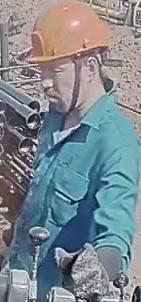gloves: (53, 242, 117, 300)
helmet: (25, 0, 114, 70)
vest: (12, 91, 140, 271)
